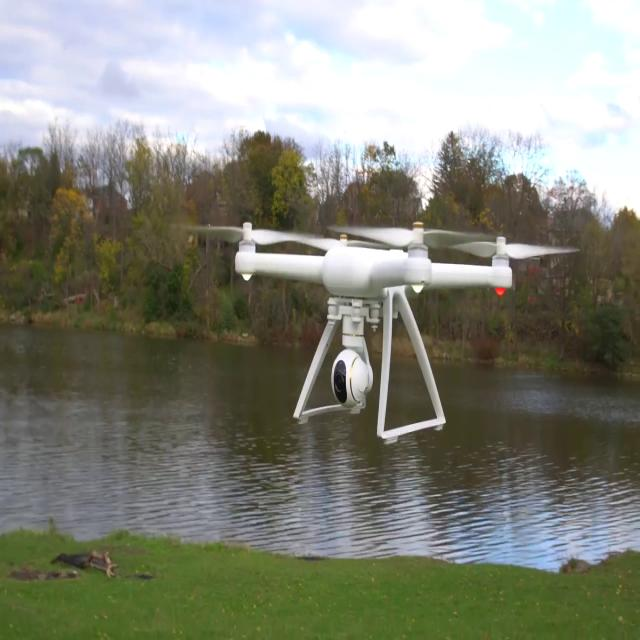drone: (190, 201, 566, 361)
